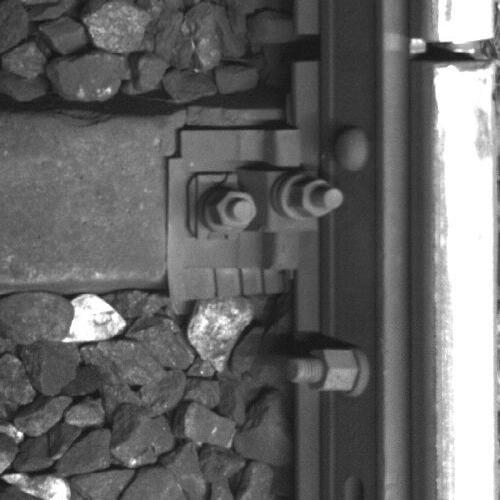joint: (409, 37, 498, 66)
kb: (178, 128, 344, 269)
nut: (290, 176, 343, 219), (211, 190, 255, 230)
rail: (432, 1, 497, 500)
tie_concr: (1, 116, 291, 289)
